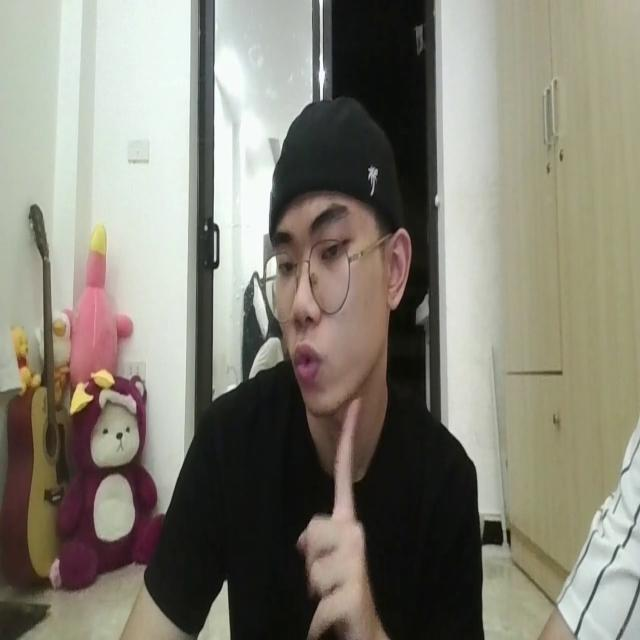student: (111, 93, 484, 640)
